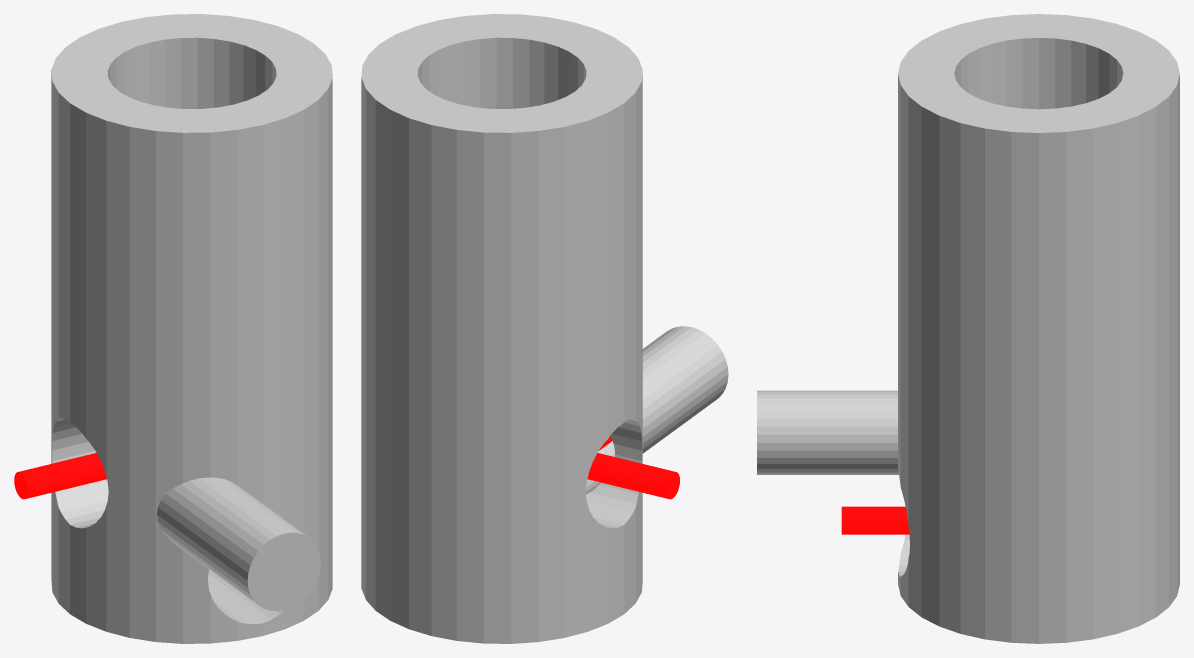
File: LOT130_7c4853fd.glb
The picture shows the model from 3 angles, left to right: view 1: azimuth 30°, elevation 25°; view 2: azimuth 150°, elevation 25°; view 3: azimuth 270°, elevation 25°; orthographic projection.
Visible parts, largest first — view 1: Cylinder, Cylinder.004; view 2: Cylinder, Cylinder.004; view 3: Cylinder, Cylinder.002.
Part boxes in pixels (x1,y1,x2,y2): Cylinder: (51, 14, 332, 643); Cylinder.004: (14, 453, 106, 499); Cylinder: (361, 14, 728, 643); Cylinder.004: (587, 453, 679, 499); Cylinder: (757, 14, 1179, 643); Cylinder.002: (841, 506, 909, 534).
Bounding box in the file's own units: 1.2 × 2 × 1.5.
